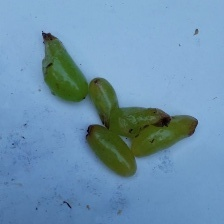grapes: (29, 6, 224, 190)
